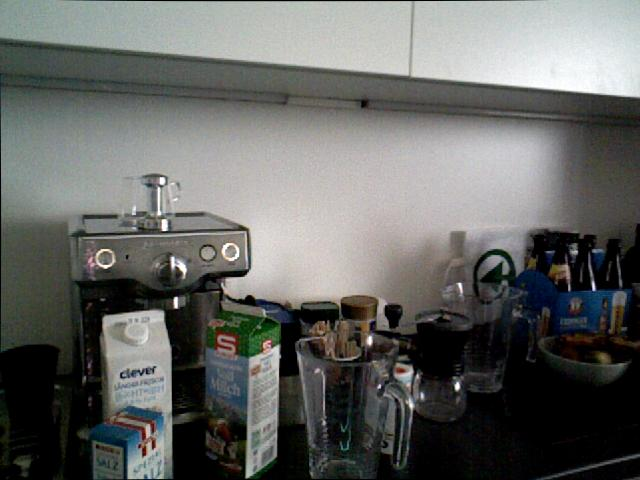bench: (208, 300, 280, 480), (100, 312, 176, 480), (573, 238, 597, 293), (602, 238, 624, 290), (552, 236, 571, 296), (527, 235, 544, 268)
bird: (537, 333, 636, 386)
handbag: (294, 331, 413, 479), (439, 281, 527, 399), (5, 337, 60, 421), (118, 173, 181, 229)
motorcycle: (557, 330, 639, 356)
